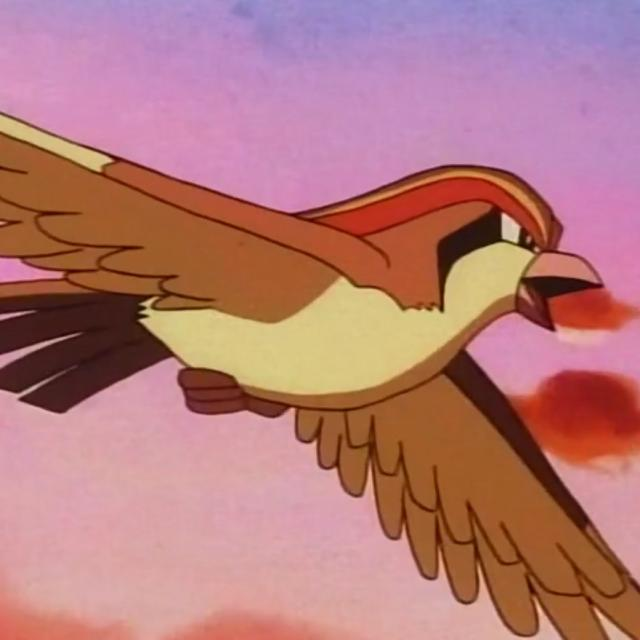Pidgeot: (2, 121, 612, 515)
